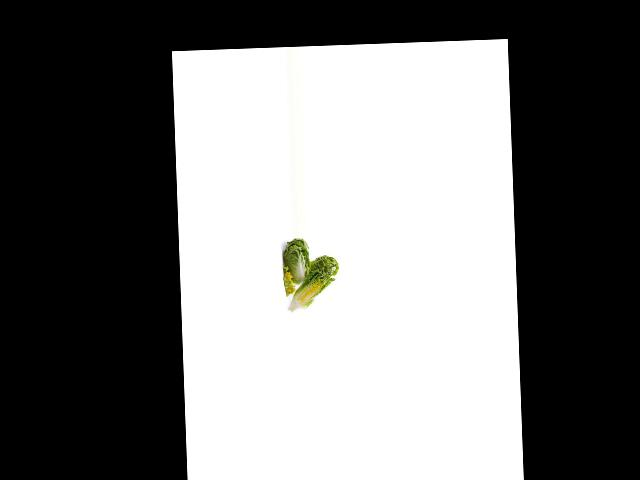lettuce: (280, 239, 312, 290)
